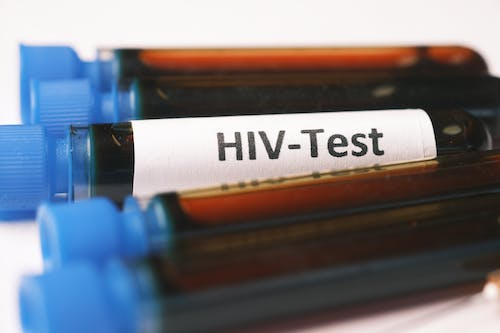blood: (151, 192, 500, 333), (87, 108, 495, 213), (131, 74, 500, 150), (144, 153, 500, 231), (111, 44, 489, 91)
